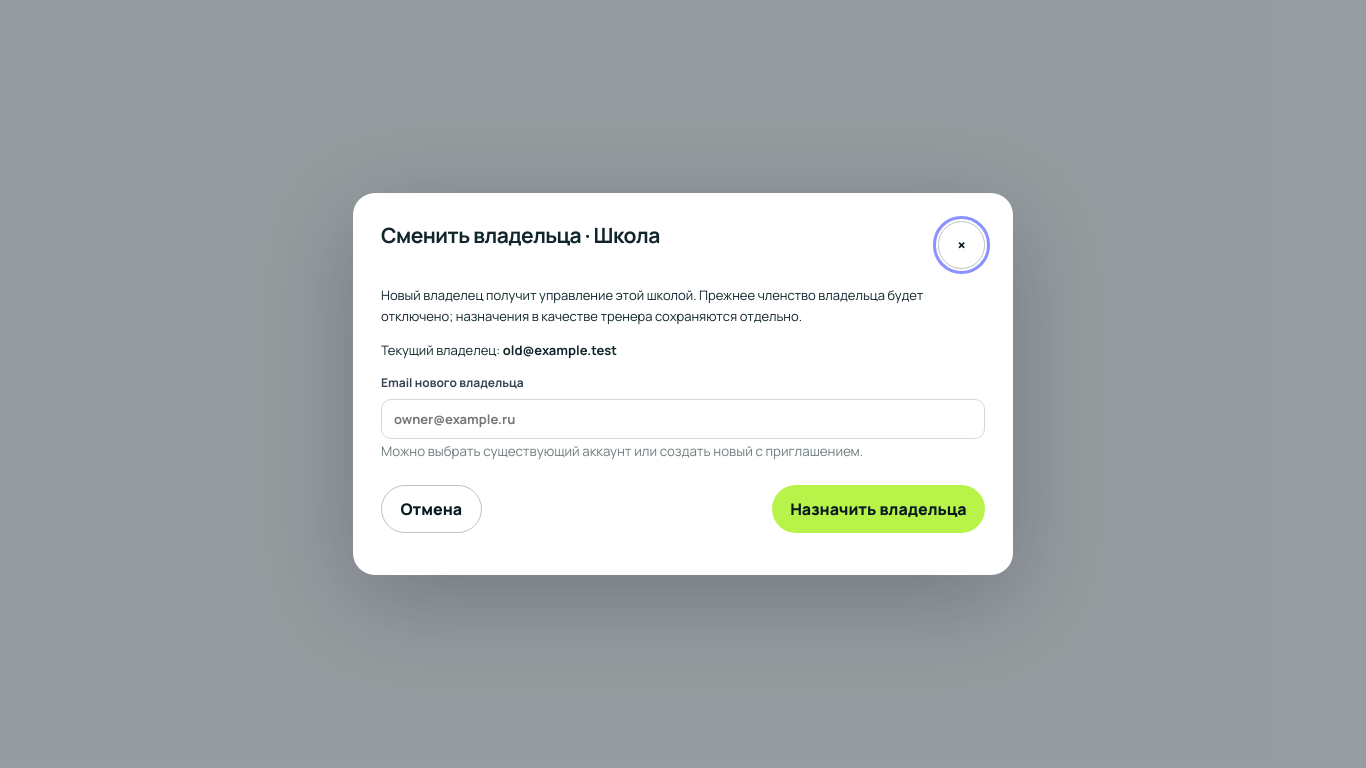
Test: school administration › changes the owner with optimistic expected owner and confirmation
The width and height of the screenshot is (1366, 768).
Type "new@example.test" into the field labelled "Email нового владельца". click: (683, 419)
box: x1=381 y1=399 x2=985 y2=439
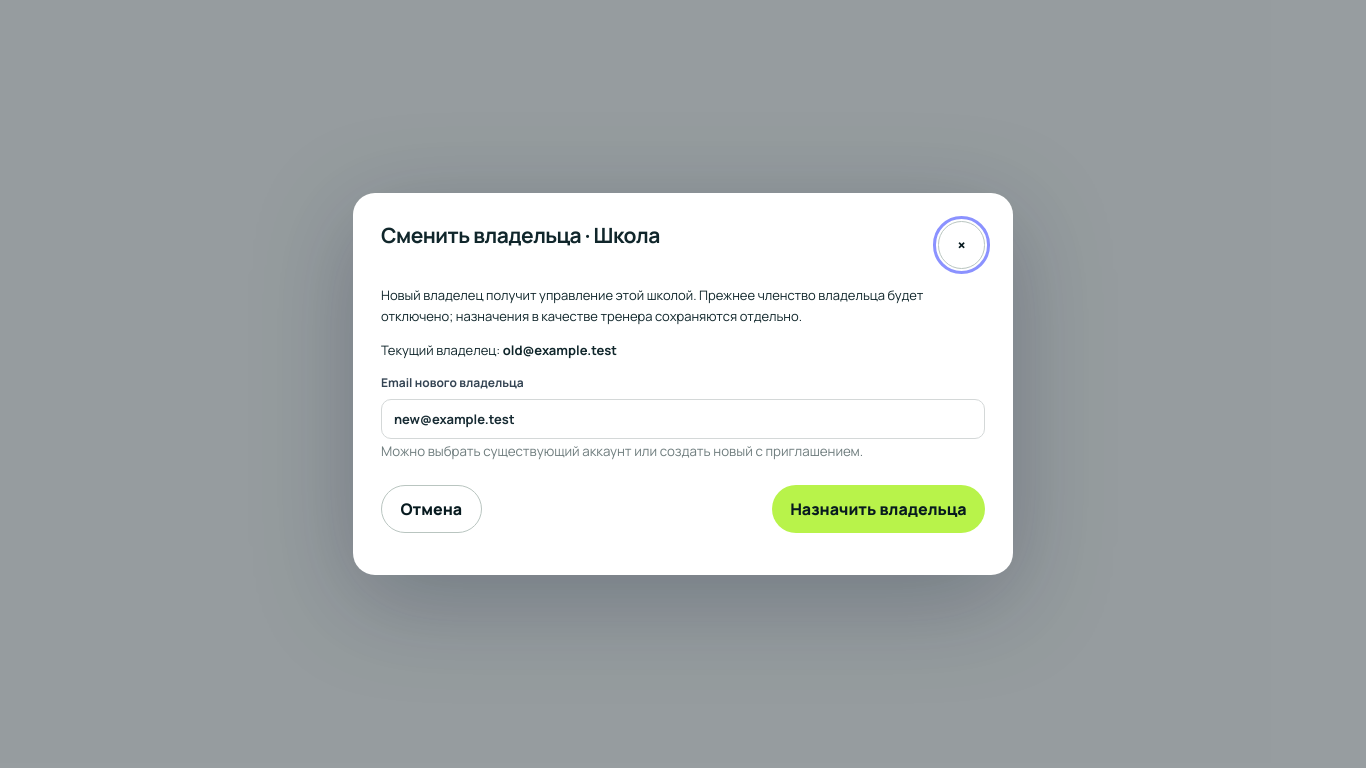
Click the button "Назначить владельца". click: (878, 509)
box: x1=772 y1=485 x2=985 y2=533
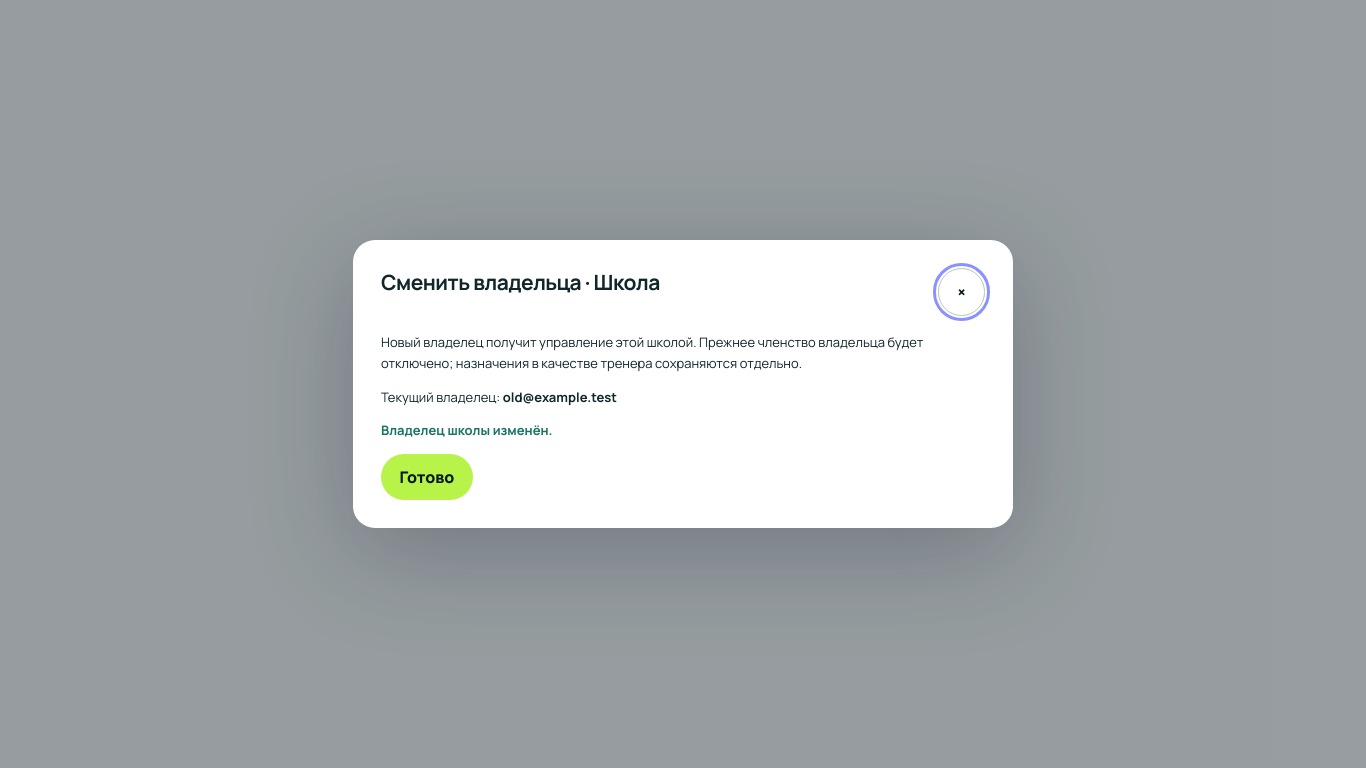
expect the message reads "Владелец школы изменён.": met, box x1=381 y1=421 x2=552 y2=439
